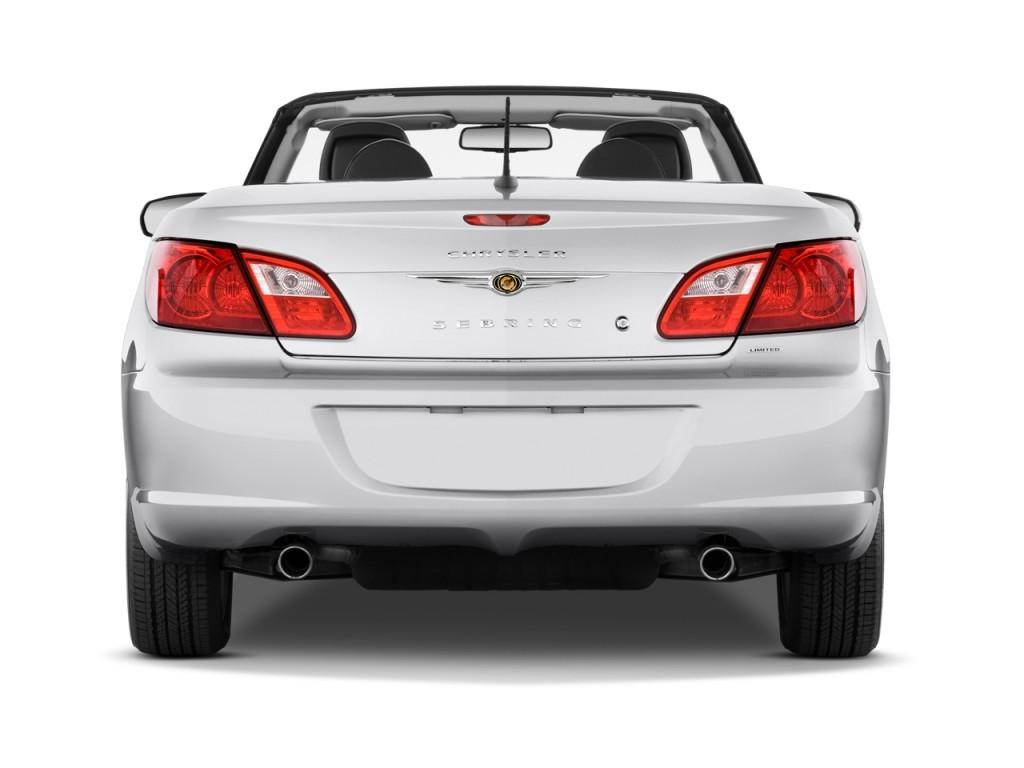Chrysler: (389, 264, 622, 300)
